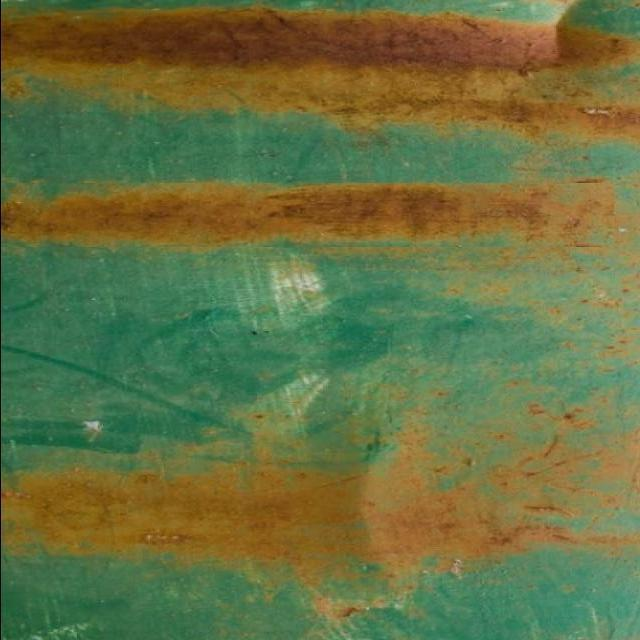Uniform Corrosion: (3, 0, 639, 154), (2, 153, 613, 244)
